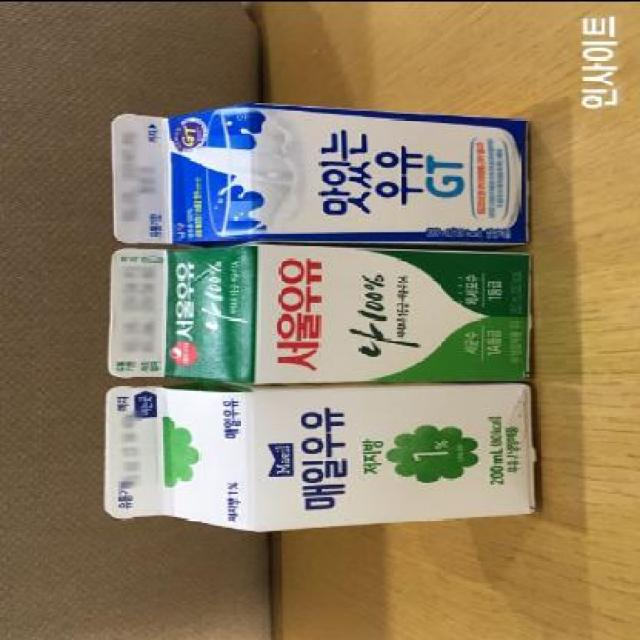non_white_jug: (79, 378, 553, 544), (86, 99, 542, 244), (94, 241, 546, 384)
